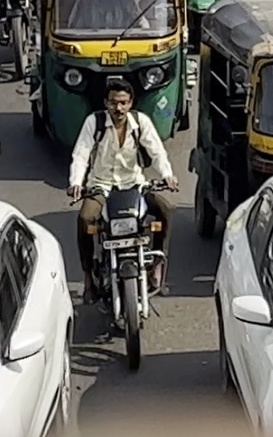BikeWithRider: (60, 69, 193, 374)
NoHelmet: (98, 77, 137, 120)
